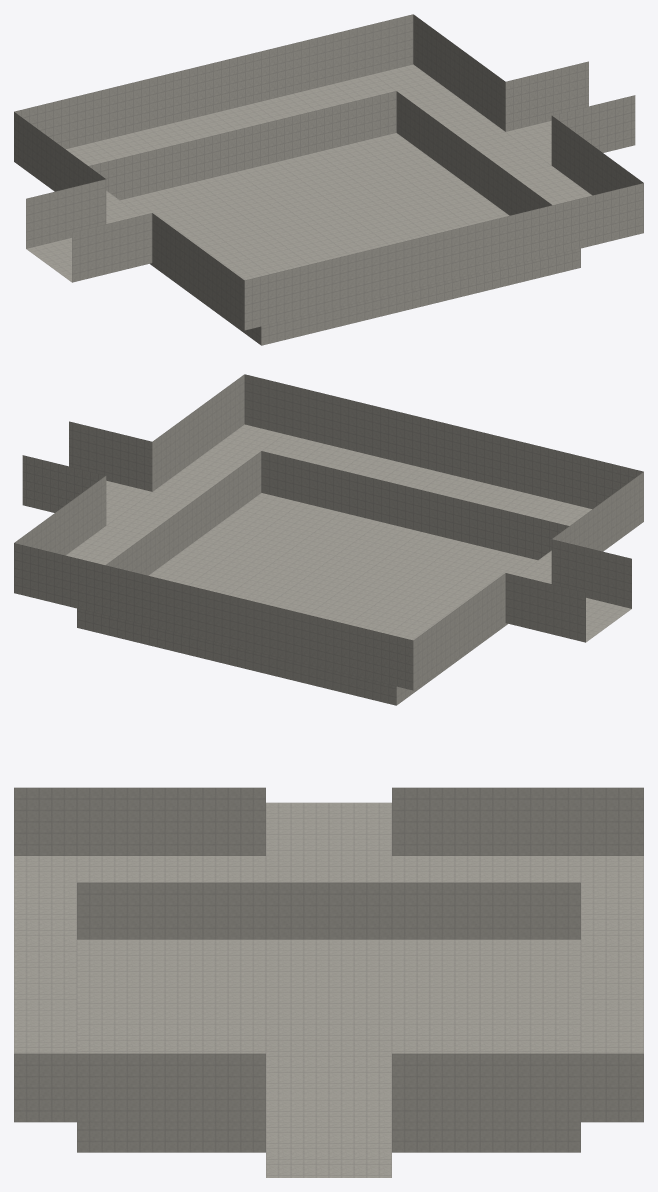
File: ms3302_12_room_N_S_exit.FBX
3 views of the same model, one above another, from view 1: azimuth 30°, elevation 25°; view 2: azimuth 150°, elevation 25°; view 3: azimuth 270°, elevation 25° (orthographic). The views are drawn at different scales.
Parts seen in each view (by area): view 1: Plane001; view 2: Plane001; view 3: Plane001.
Part boxes in pixels (left/top/right/bottom): Plane001: left=14, top=14, right=643, bottom=345; Plane001: left=14, top=374, right=643, bottom=705; Plane001: left=14, top=787, right=643, bottom=1177.
Bounding box in the file's own units: 7050 × 1100 × 5000.
